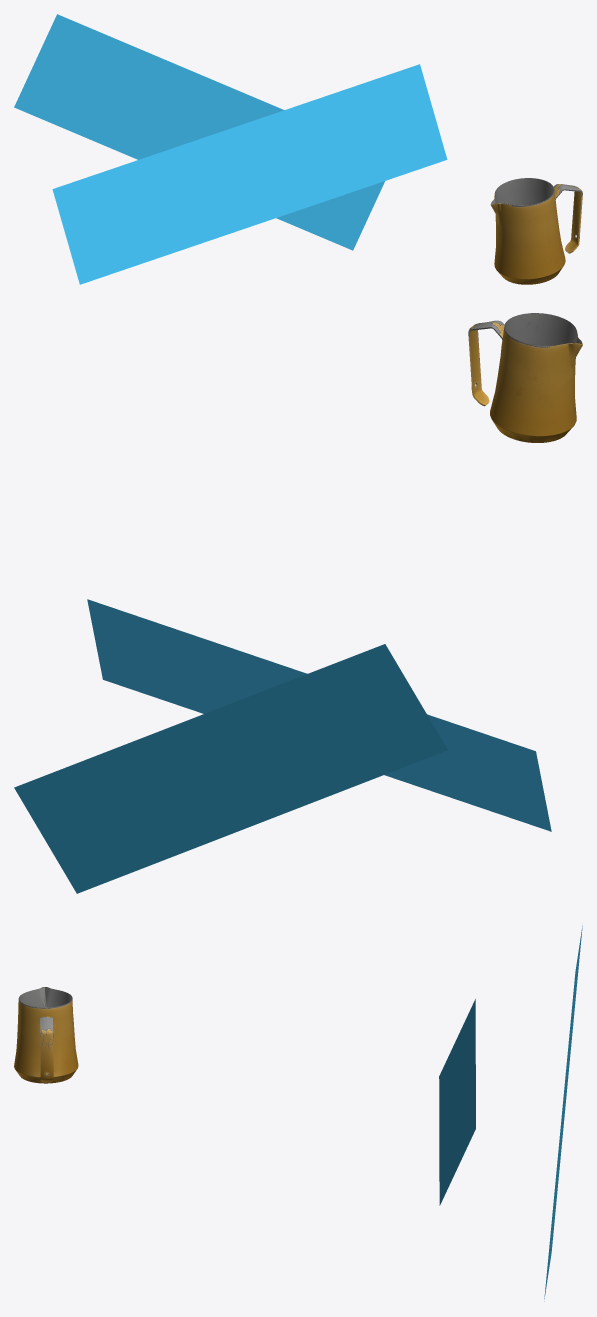
The picture shows the model from 3 angles, top to bottom: view 1: azimuth 30°, elevation 25°; view 2: azimuth 150°, elevation 25°; view 3: azimuth 270°, elevation 25°; orthographic projection. The views are drawn at different scales.
Visible parts, largest first — view 1: Plane.001, Plane.003, Cylinder; view 2: Plane.003, Plane.001, Cylinder; view 3: Cylinder, Plane.001, Plane.003.
Part boxes in pixels (<box>): Plane.001: <box>52,64,447,284</box>; Plane.003: <box>14,14,384,250</box>; Cylinder: <box>490,178,582,284</box>; Plane.003: <box>14,644,447,893</box>; Plane.001: <box>87,599,551,831</box>; Cylinder: <box>468,313,582,442</box>; Cylinder: <box>14,987,78,1083</box>; Plane.001: <box>439,999,475,1205</box>; Plane.003: <box>544,925,582,1301</box>.
Size of the model in its own units: 0.4981 by 0.3557 by 0.7042.
Materials: 2 (1 with a texture image).
